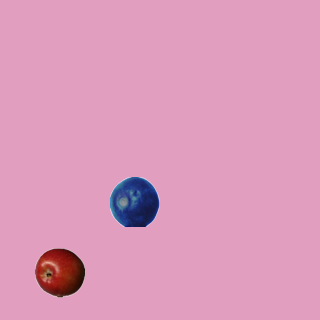Apple Braeburn: (34, 247, 84, 297)
Huckleberry: (109, 176, 159, 226)
